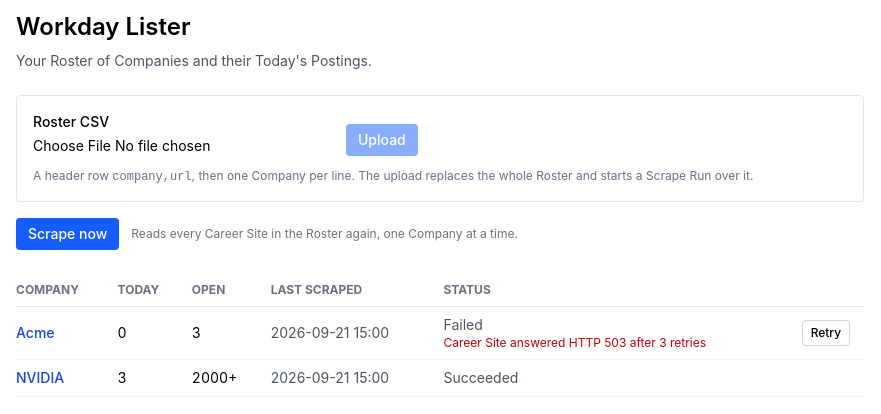
Retry runs just that Company and shows the run it started
Step 1. Click the button "Retry" → (826, 333), box x1=802 y1=320 x2=850 y2=346
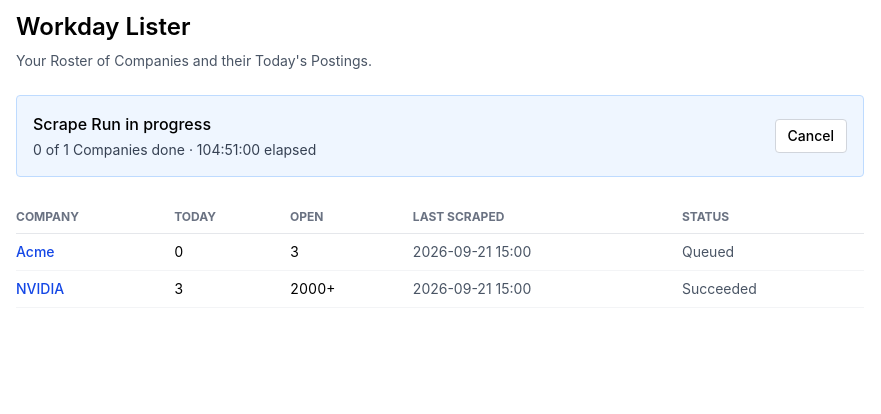
Now the text "0 of 1 Companies done · 104:51:00 elapsed" is shown, box x1=33 y1=141 x2=316 y2=158
Now the button "Retry" is gone
Now the button "Scrape now" is gone
